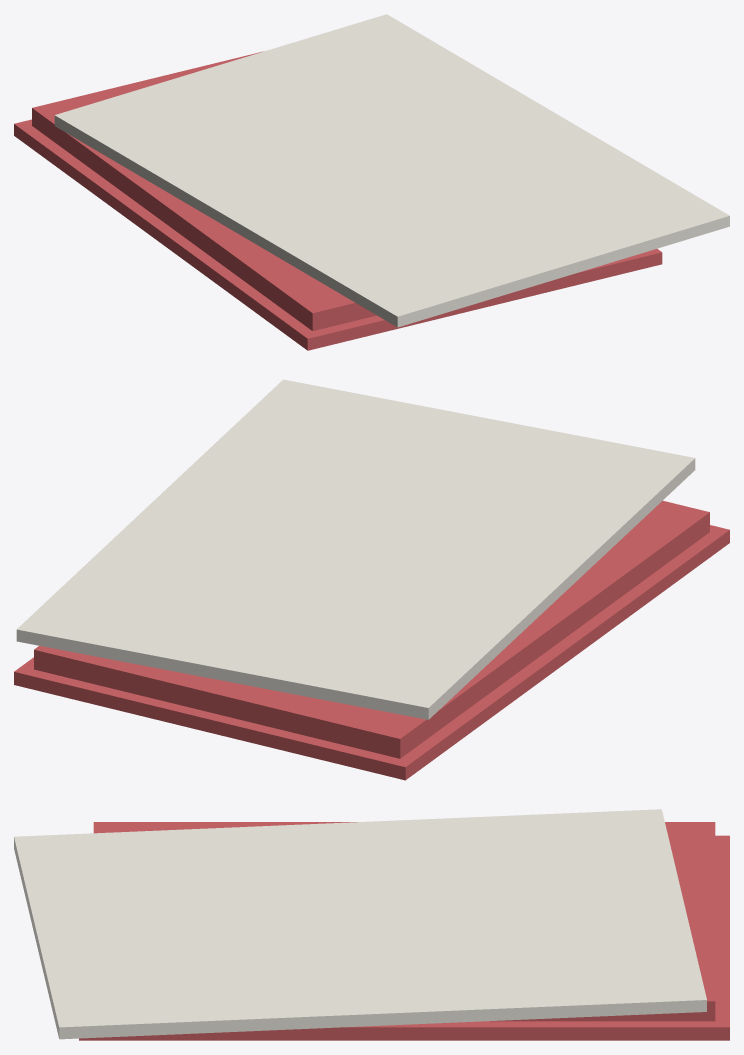
File: casino-floor-and-back-rooms-cut-card-83882176__27034.glb
3 views of the same model, one above another, from view 1: azimuth 30°, elevation 25°; view 2: azimuth 150°, elevation 25°; view 3: azimuth 270°, elevation 25° (orthographic). The views are drawn at different scales.
Visible parts, largest first — view 1: cut-card; view 2: cut-card; view 3: cut-card.
Part boxes in pixels (box(x1,y1,x2,y2)): cut-card: box(14, 14, 729, 350); cut-card: box(14, 379, 729, 780); cut-card: box(14, 809, 729, 1040).
Size of the model in its own units: 0.0723 by 0.0068 by 0.0979.
